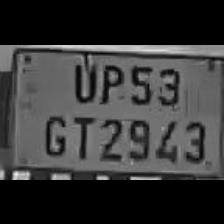2: (95, 112, 123, 162)
3: (179, 114, 207, 162), (154, 61, 182, 106)
4: (153, 113, 179, 162)
5: (124, 58, 154, 104)
9: (123, 111, 151, 160)
G: (40, 109, 68, 157)
P: (96, 57, 124, 105)
T: (70, 110, 96, 160)
U: (68, 55, 96, 103)
